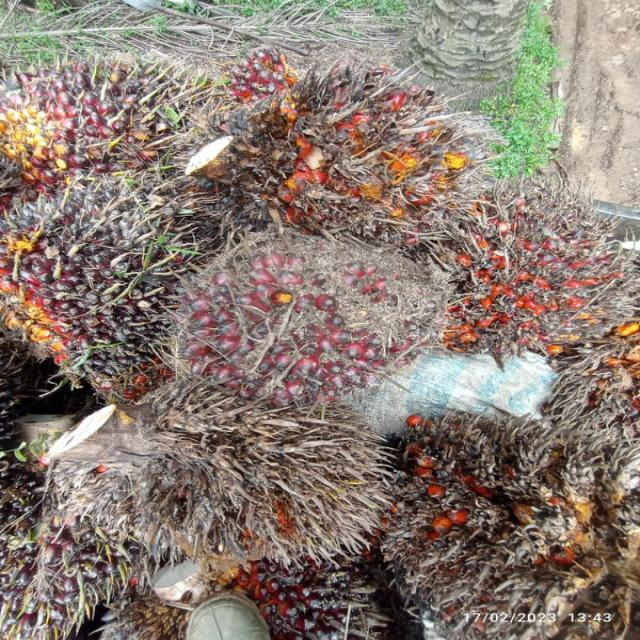fraksi 00: (0, 178, 239, 378), (2, 47, 208, 200)
fraksi 1: (140, 205, 427, 428)
fraksi 3: (203, 39, 477, 264)
fraksi 4: (416, 164, 640, 372), (387, 405, 610, 610)
